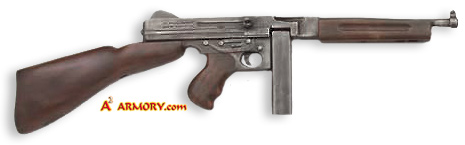rifle: (12, 19, 461, 130)
